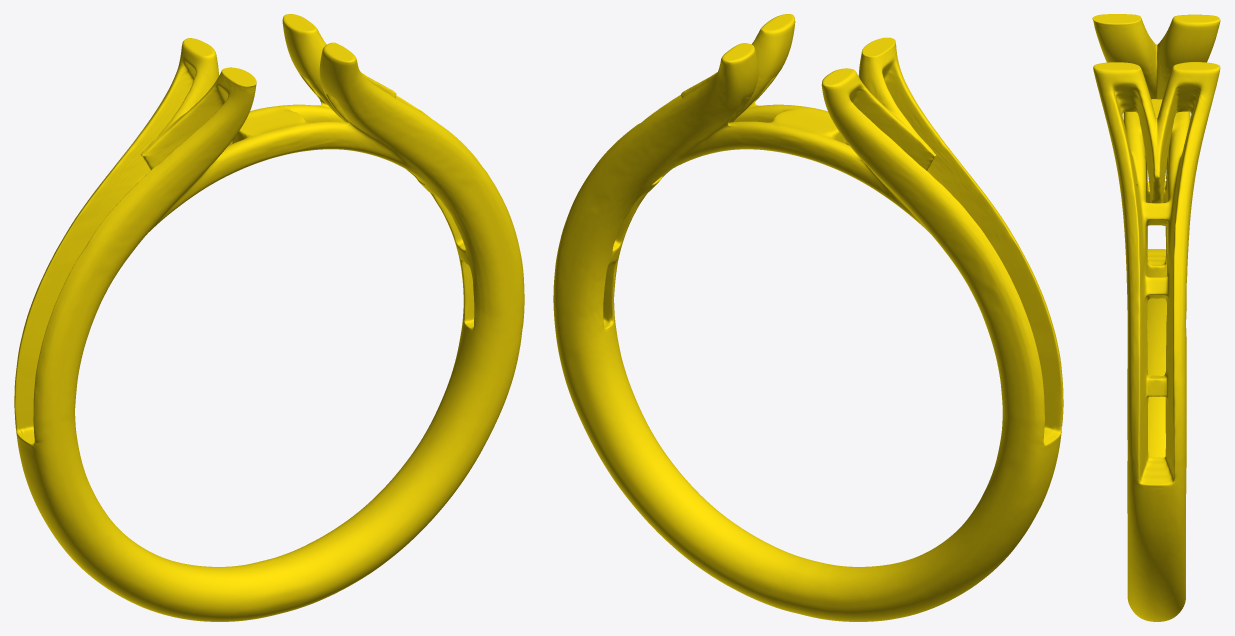
The model's file is Shank_Split_Channel_B_No, Hidden Halo_Band.glb.
3 views of the same model, side by side, from view 1: azimuth 30°, elevation 25°; view 2: azimuth 150°, elevation 25°; view 3: azimuth 270°, elevation 25° (orthographic).
Bounding box in the file's own units: 0.0213 × 0.0232 × 0.00488.
